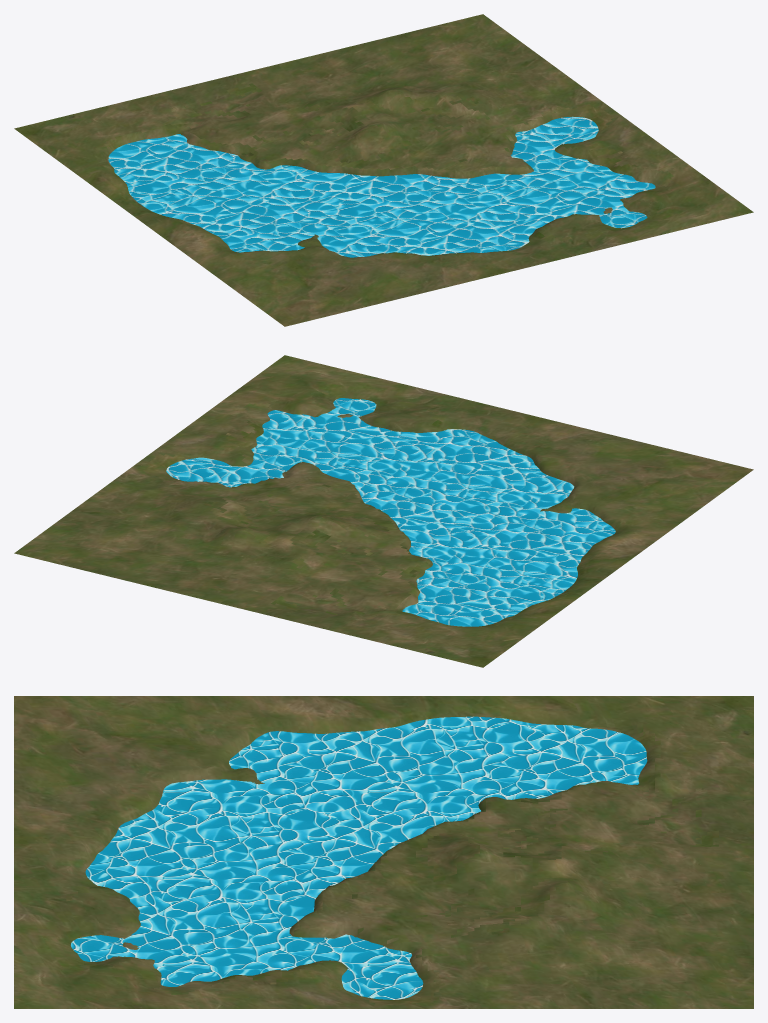
The model's file is SM_Env_Pond_01.fbx.
3 views of the same model, one above another, from view 1: azimuth 30°, elevation 25°; view 2: azimuth 150°, elevation 25°; view 3: azimuth 270°, elevation 25° (orthographic). The views are drawn at different scales.
Visible parts, largest first — view 1: Landscape.007, Landscape_plane; view 2: Landscape.007, Landscape_plane; view 3: Landscape.007, Landscape_plane.
Boxes of the visible parts, <box> form: Landscape.007: <box>14,14,753,326</box>; Landscape_plane: <box>108,116,655,257</box>; Landscape.007: <box>14,355,753,667</box>; Landscape_plane: <box>166,398,615,626</box>; Landscape.007: <box>14,696,753,1008</box>; Landscape_plane: <box>71,716,647,999</box>.
Size of the model in its own units: 3153 by 474 by 3153.
